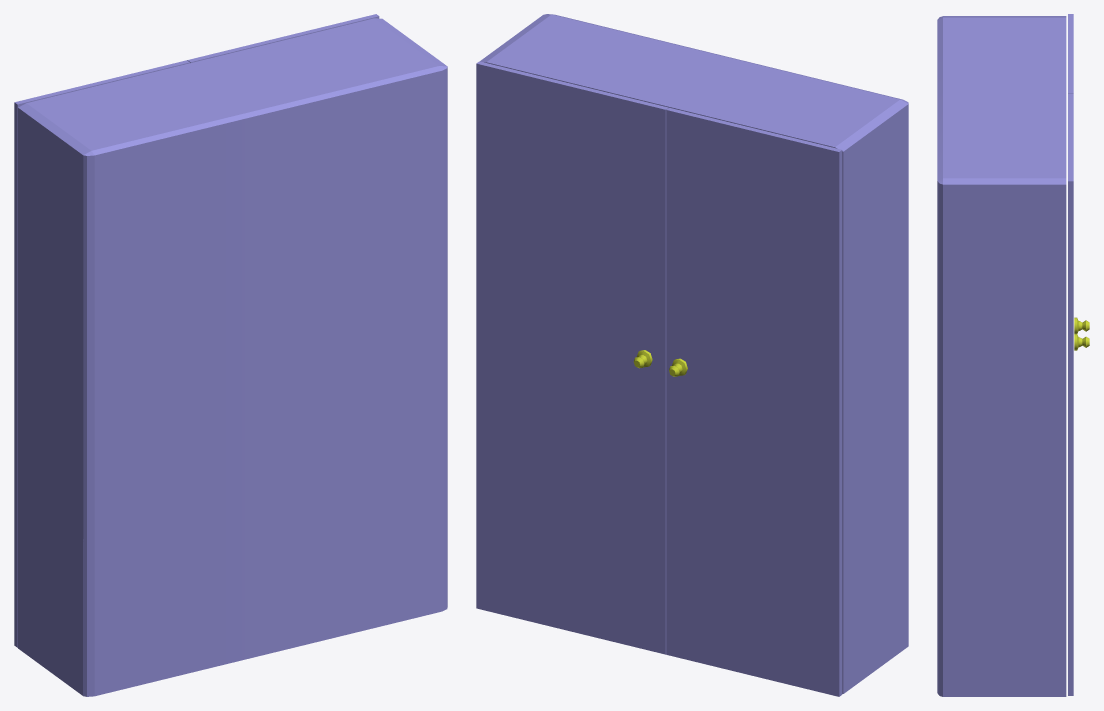
Rendered from Prop_closet2.FBX.
The picture shows the model from 3 angles, left to right: view 1: azimuth 30°, elevation 25°; view 2: azimuth 150°, elevation 25°; view 3: azimuth 270°, elevation 25°; orthographic projection. The views are drawn at different scales.
Visible parts, largest first — view 1: Prop_closet005, Prop_closet007, Prop_closet006; view 2: Prop_closet006, Prop_closet007, Prop_closet005; view 3: Prop_closet005, Prop_closet006, Prop_closet007.
Boxes of the visible parts, x1=… form: Prop_closet005: x1=18, y1=18, x2=447, y2=696; Prop_closet007: x1=14, y1=60, x2=189, y2=647; Prop_closet006: x1=187, y1=14, x2=379, y2=62; Prop_closet006: x1=476, y1=61, x2=668, y2=654; Prop_closet007: x1=666, y1=107, x2=842, y2=696; Prop_closet005: x1=480, y1=14, x2=908, y2=693; Prop_closet005: x1=937, y1=16, x2=1066, y2=696; Prop_closet006: x1=1068, y1=94, x2=1073, y2=695; Prop_closet007: x1=1068, y1=14, x2=1073, y2=93.
Bounding box in the file's own units: 51.37 × 19.65 × 73.19.
